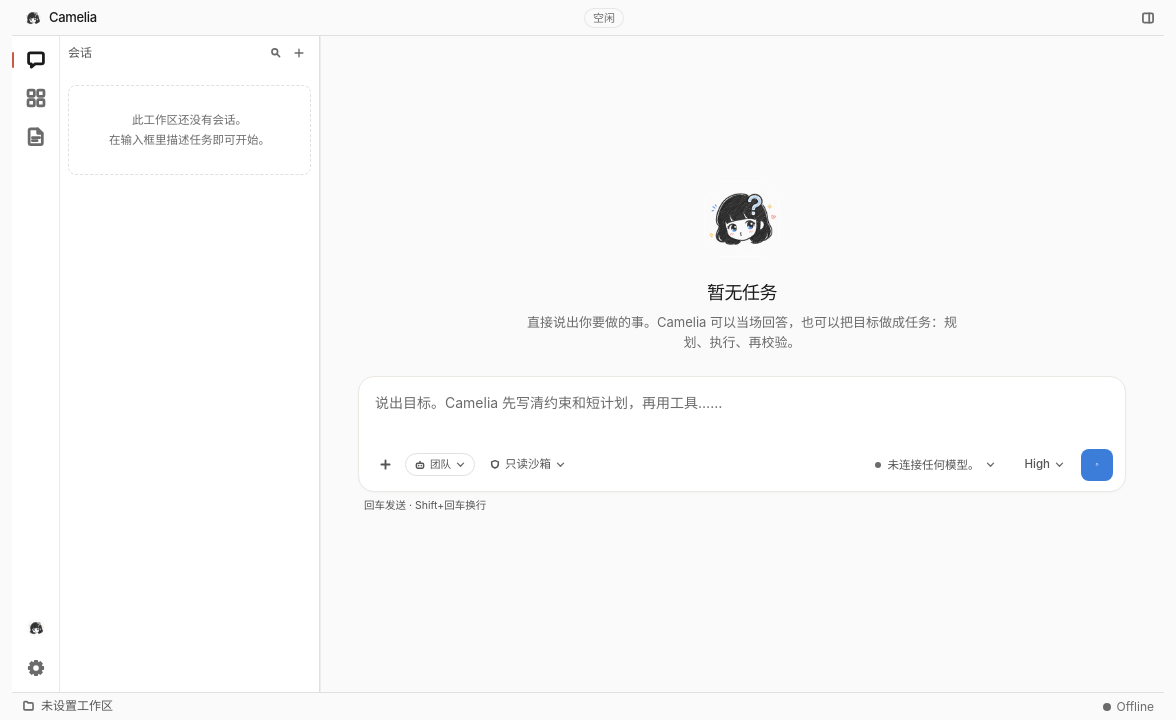
it: composer chat dispatch › sends chat_message with the chosen policy — never submit_task
The width and height of the screenshot is (1176, 720).
Type "hello" into the text box with placeholder "说出目标。Camelia 先写清约束和短计划，再用工具……" at [742, 414], box [369, 386, 1115, 442]
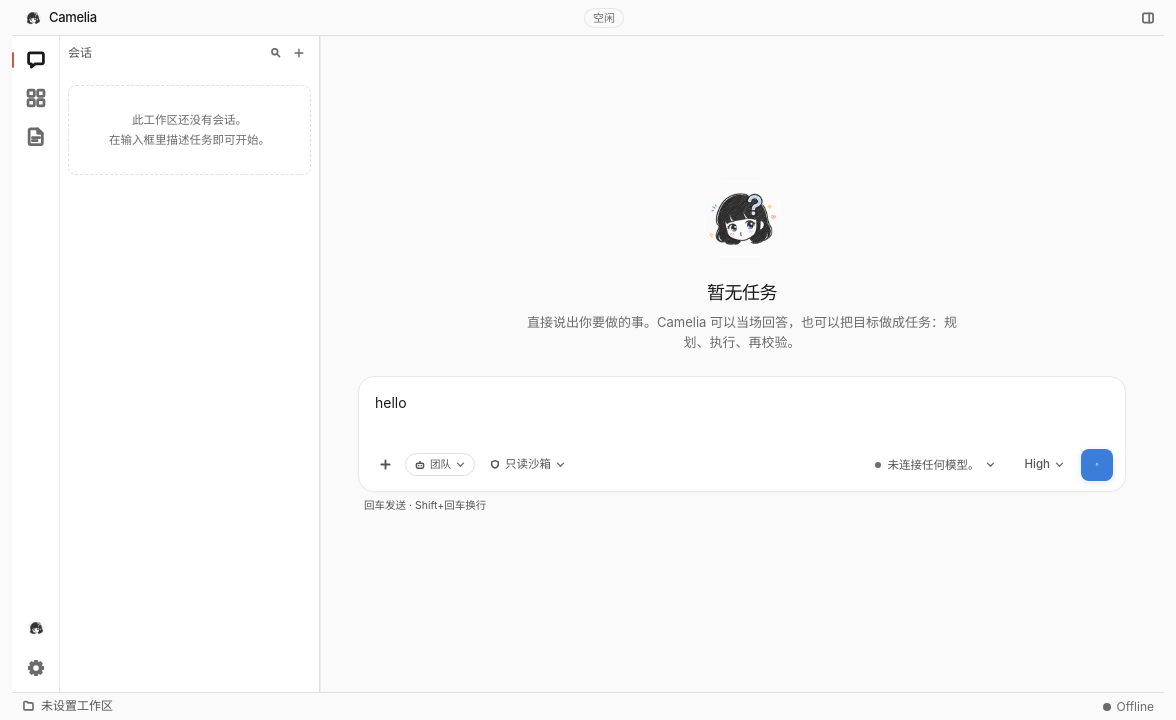
Press Enter in the text box, box [369, 386, 1115, 442]
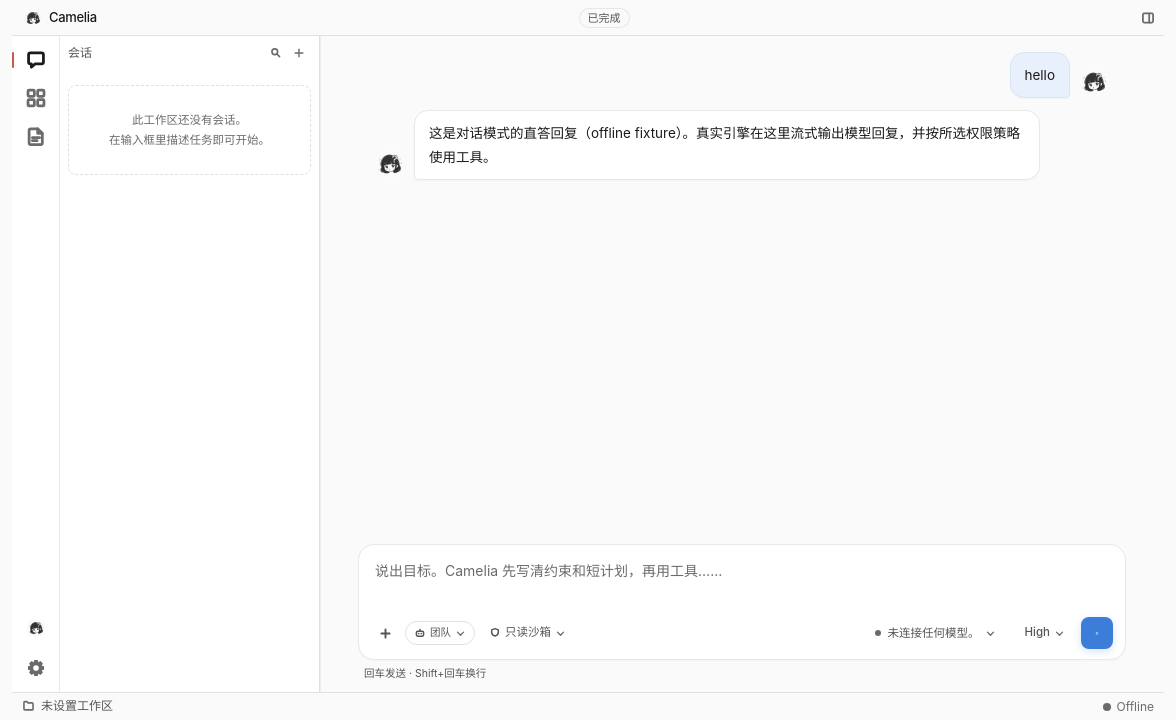
Check: the text "hello" is shown, box [1024, 63, 1055, 87]
Check: the text box with placeholder "说出目标。Camelia 先写清约束和短计划，再用工具……" is empty, box [369, 555, 1115, 611]
